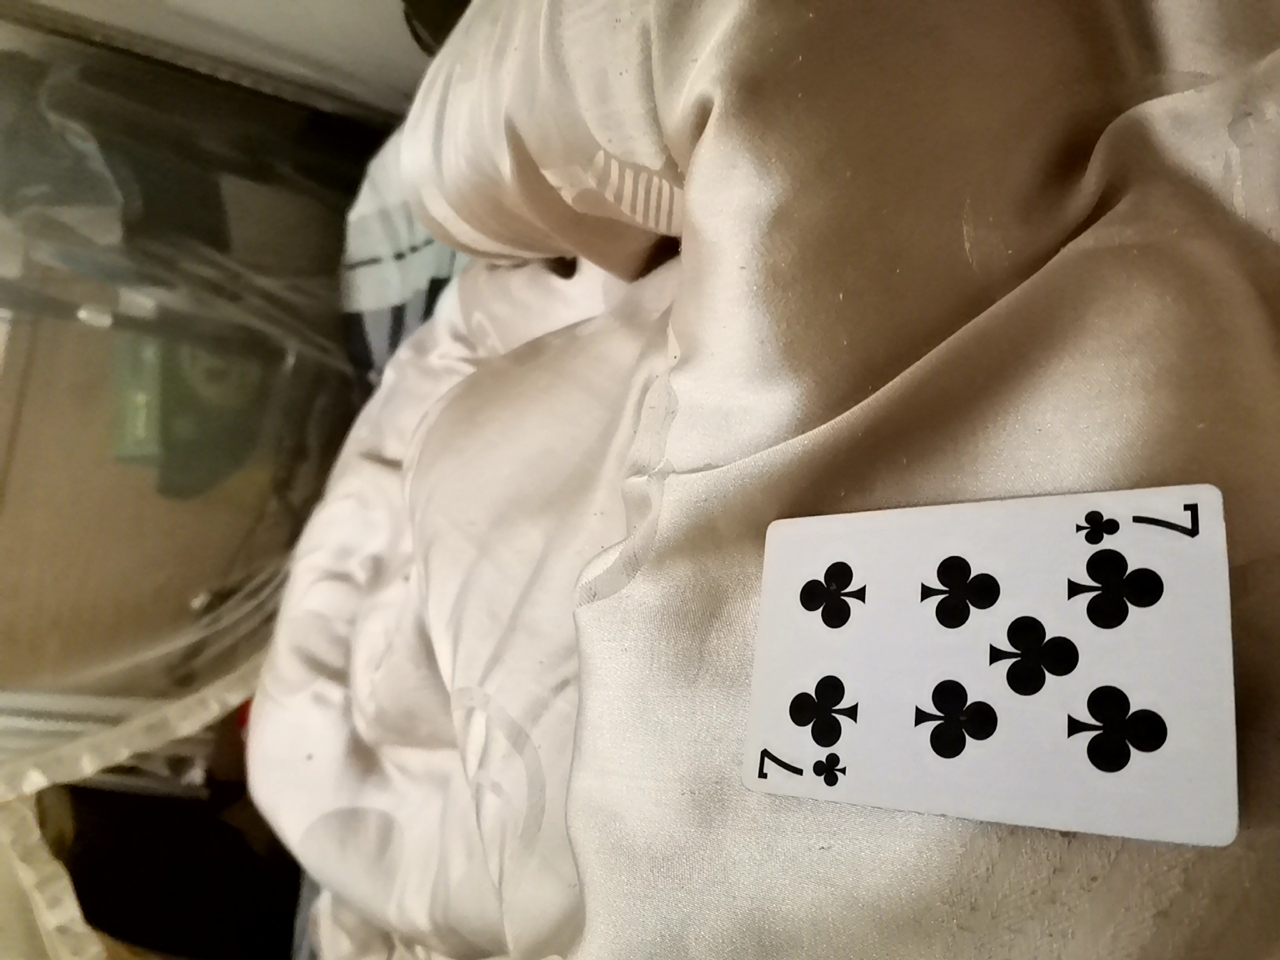mh 7: (712, 502, 1196, 846)
